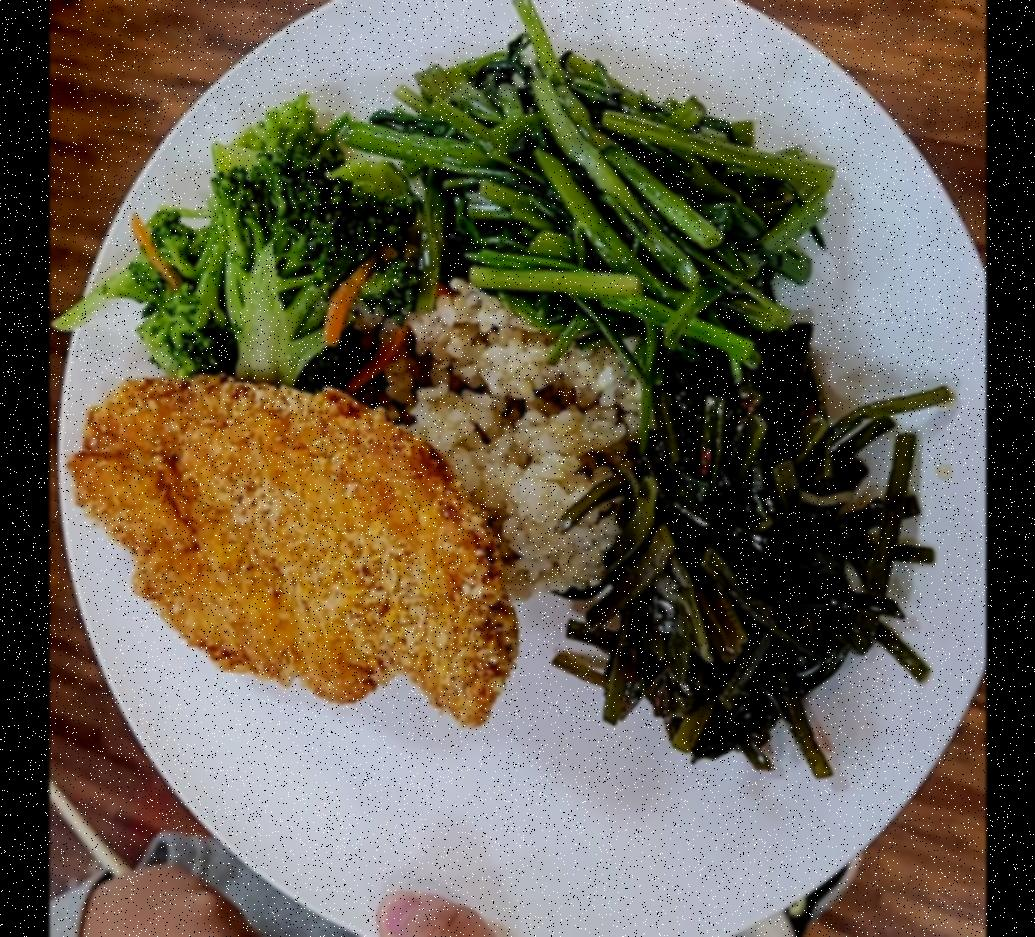big fried chicken leg: (71, 0, 986, 937)
box: (387, 296, 644, 602)
braised fish fillet: (583, 342, 934, 761), (373, 26, 829, 340), (106, 109, 400, 376)
braised pork: (67, 360, 524, 732)
